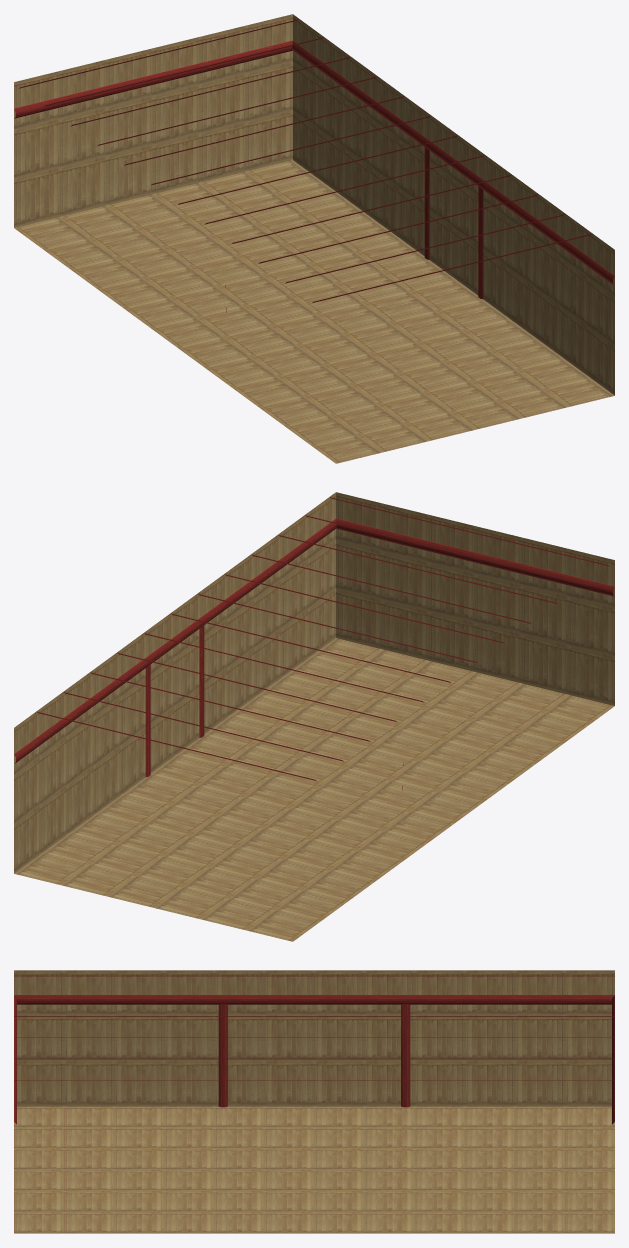
The picture shows the model from 3 angles, top to bottom: view 1: azimuth 30°, elevation 25°; view 2: azimuth 150°, elevation 25°; view 3: azimuth 270°, elevation 25°; orthographic projection. The views are drawn at different scales.
Visible parts, largest first — view 1: Modular_Room_01; view 2: Modular_Room_01; view 3: Modular_Room_01.
Boxes of the visible parts, x1,y1,x2,y2 form: Modular_Room_01: (14, 14, 614, 463); Modular_Room_01: (14, 492, 614, 941); Modular_Room_01: (14, 970, 614, 1233).
Size of the model in its own units: 6 by 3 by 12.
Materials: 1 (1 with a texture image).
